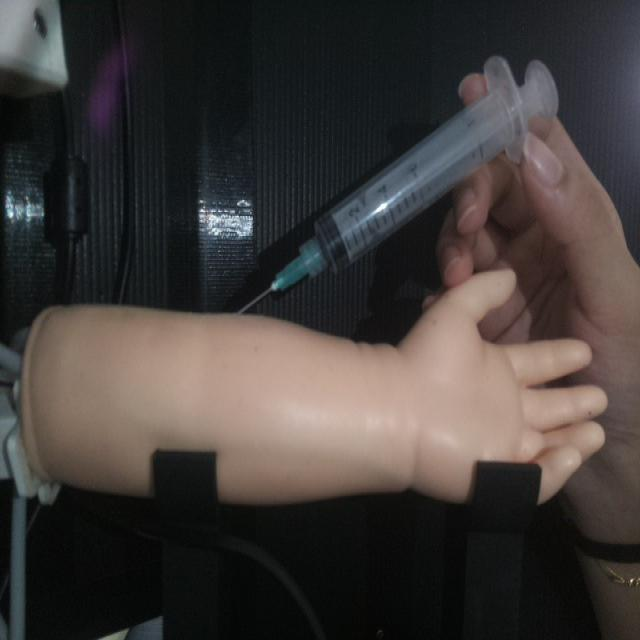Outside: (233, 52, 561, 315)
